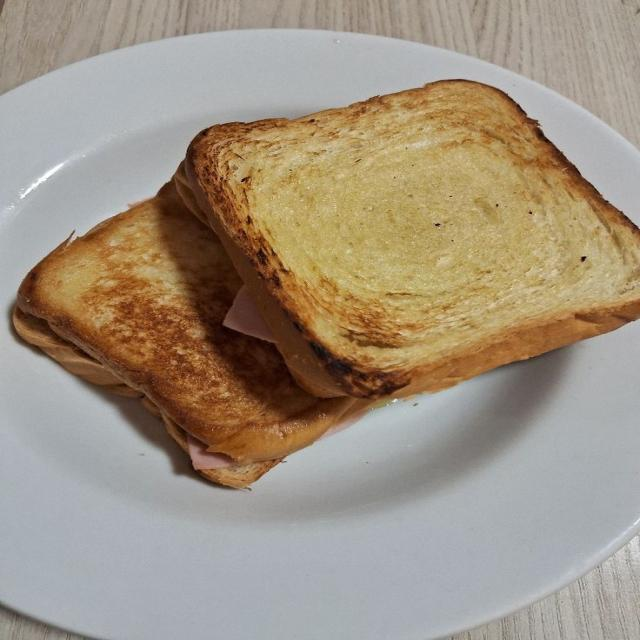toast bread: (183, 80, 639, 400), (13, 182, 368, 487)
